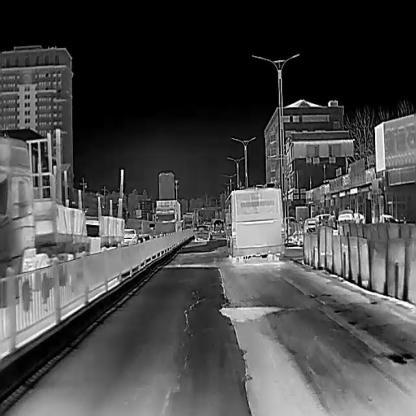car: (0, 136, 88, 309), (226, 187, 284, 263), (155, 198, 181, 236), (120, 229, 137, 246), (337, 207, 355, 221), (195, 225, 210, 241), (316, 213, 332, 226), (183, 212, 194, 228)
